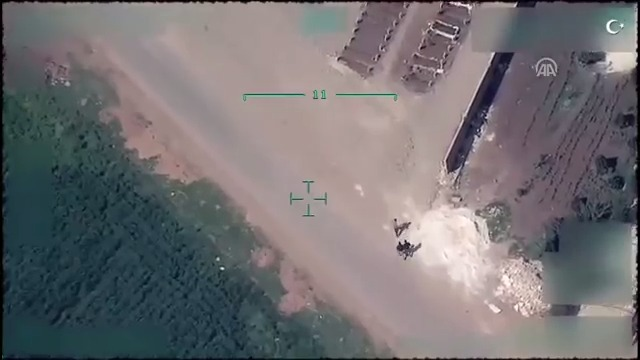insan: (391, 211, 402, 236), (394, 239, 405, 258), (403, 237, 413, 255)
